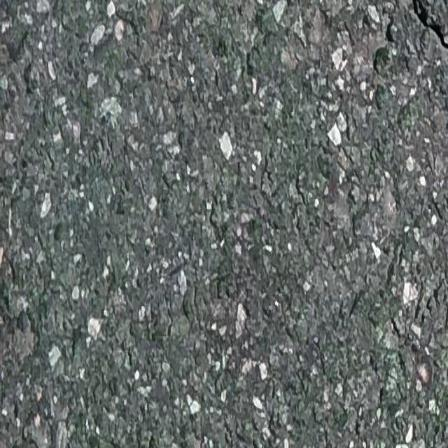crack: (406, 0, 448, 55)
